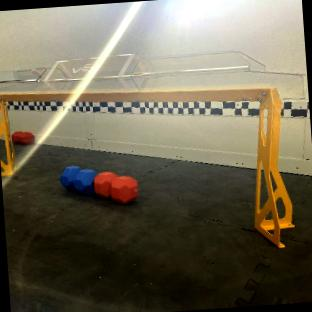Goal: (0, 51, 304, 247)
V5_BLUE: (60, 165, 97, 194)
V5_RED: (93, 171, 138, 203), (11, 131, 32, 144)
